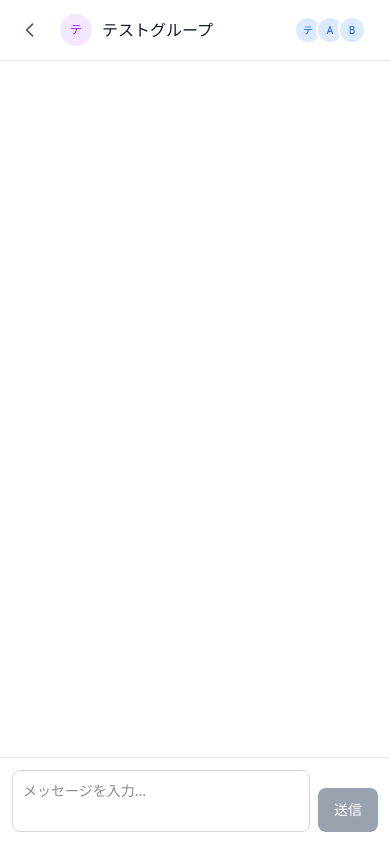
GroupChat › メンバーポップオーバー › 再度クリックでポップオーバーを閉じる
This screenshot has width=390, height=844.
Click the button with test id "member-avatars-button".
click(330, 30)  # box [286,12,374,48]
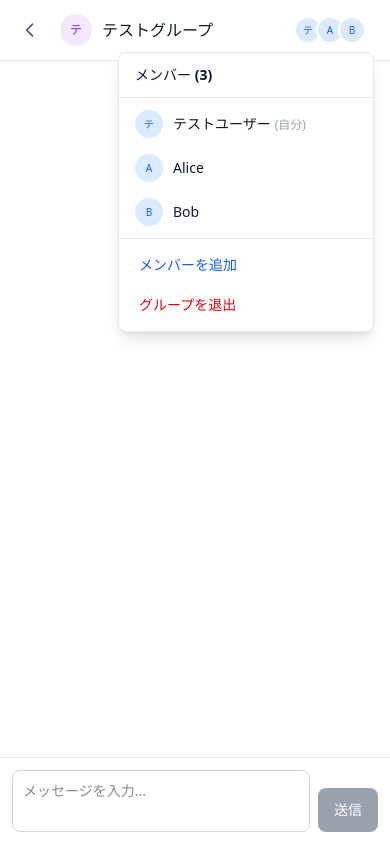
Now the element with test id "member-popover" is shown, box [118,52,374,332]
Click the button with test id "member-avatars-button".
click(330, 30)  # box [286,12,374,48]
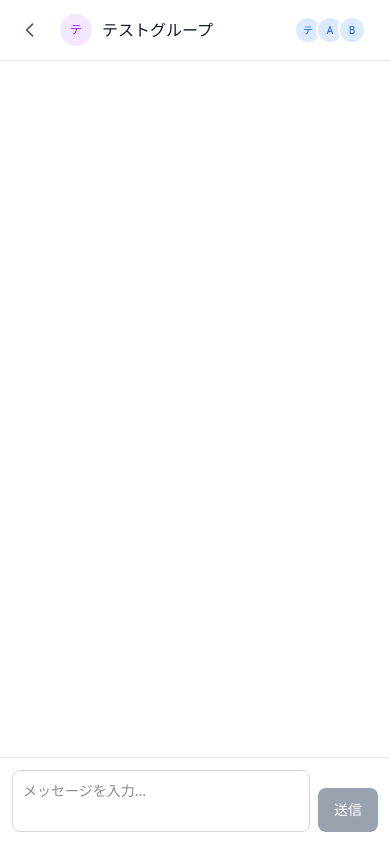
Now the element with test id "member-popover" is gone
